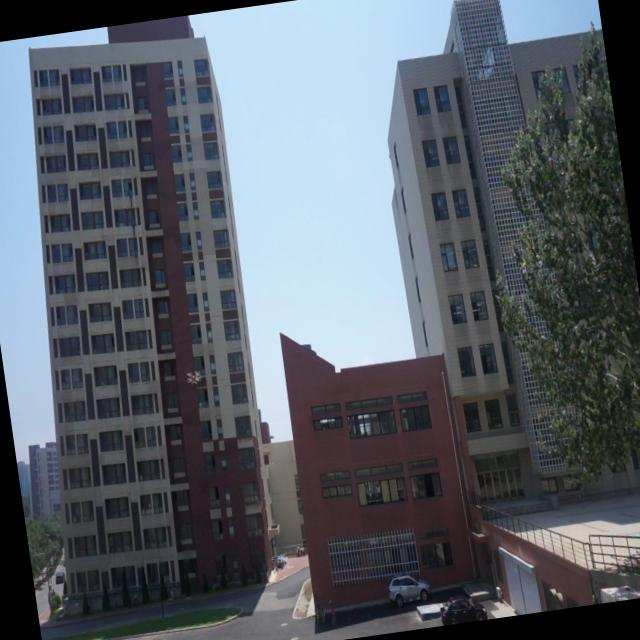drone: (183, 364, 204, 392)
